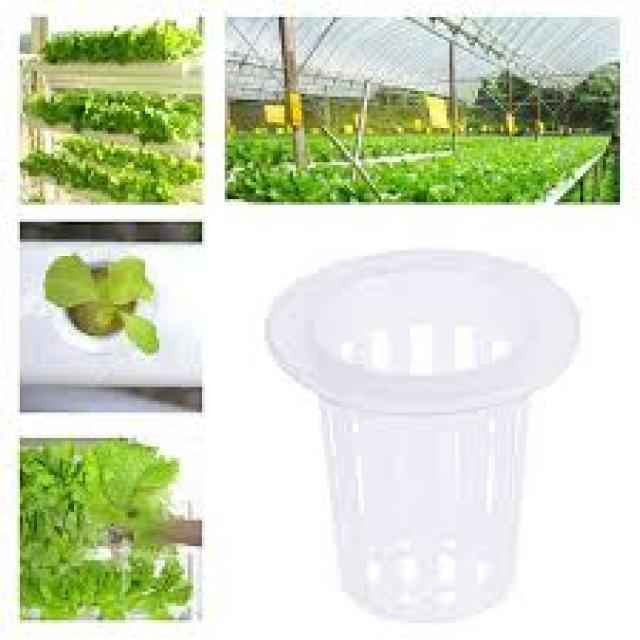basket: (238, 234, 586, 635)
